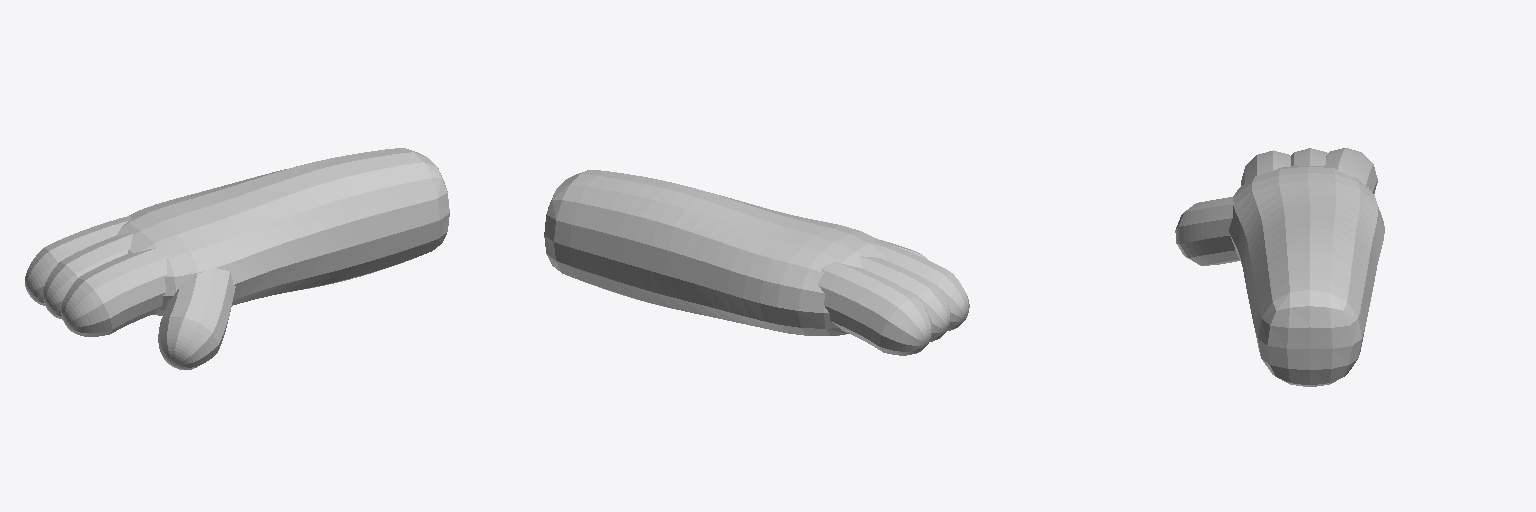
The model's file is manita izq cordero.obj.
3 renders of one model, left to right at view 1: azimuth 30°, elevation 25°; view 2: azimuth 150°, elevation 25°; view 3: azimuth 270°, elevation 25°, orthographic.
Parts seen in each view (by area): view 1: Object; view 2: Object; view 3: Object.
Boxes of the visible parts, x1=… form: Object: x1=25, y1=148, x2=449, y2=369; Object: x1=544, y1=170, x2=969, y2=355; Object: x1=1175, y1=148, x2=1384, y2=386.
Size of the model in its own units: 9.59 by 2.68 by 4.47.